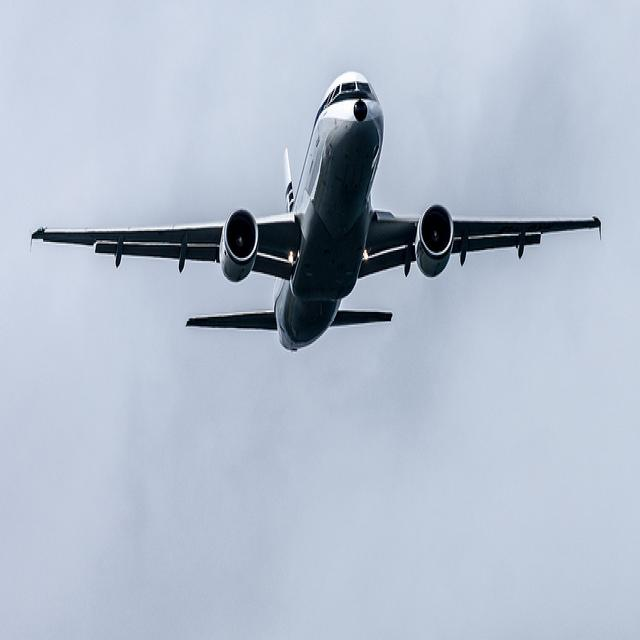airplane: (28, 69, 603, 354)
